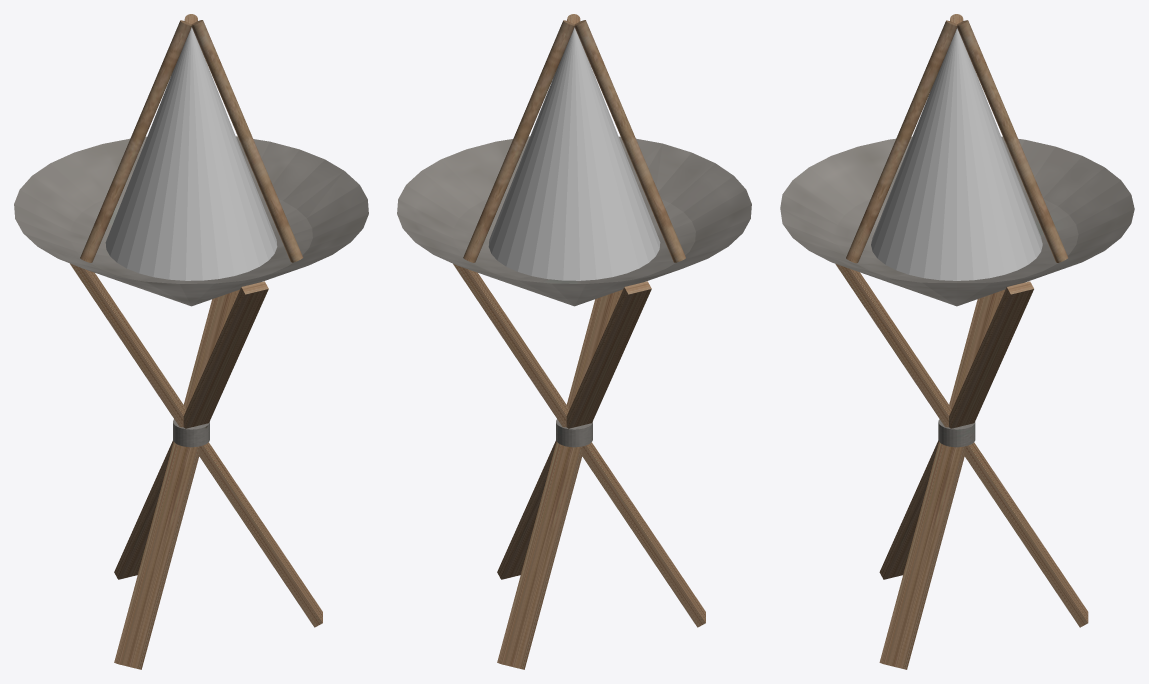
Rendered from Brazier v2 Textured.obj.
3 views of the same model, side by side, from view 1: azimuth 30°, elevation 25°; view 2: azimuth 150°, elevation 25°; view 3: azimuth 270°, elevation 25° (orthographic).
Parts seen in each view (by area): view 1: Brazier_Cone, Bonfire_Cone.001; view 2: Brazier_Cone, Bonfire_Cone.001; view 3: Brazier_Cone, Bonfire_Cone.001.
Part boxes in pixels (<box>): Brazier_Cone: <box>14,136,368,669</box>; Bonfire_Cone.001: <box>80,14,303,280</box>; Brazier_Cone: <box>397,136,751,669</box>; Bonfire_Cone.001: <box>463,14,685,280</box>; Brazier_Cone: <box>780,136,1134,669</box>; Bonfire_Cone.001: <box>846,14,1068,280</box>.
Bounding box in the file's own units: 1.99 × 3.74 × 1.99.
